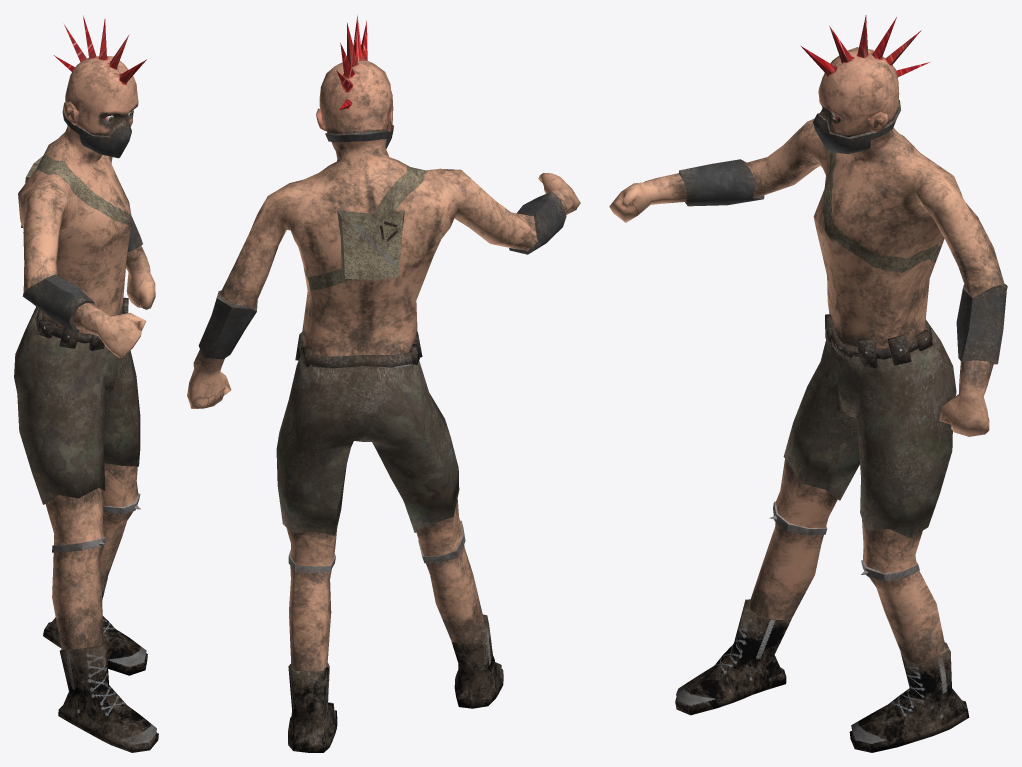
File: Anim_disparar_pistola_npc2.0026.obj
3 renders of one model, left to right at view 1: azimuth 30°, elevation 25°; view 2: azimuth 150°, elevation 25°; view 3: azimuth 270°, elevation 25°, orthographic. The views are drawn at different scales.
Visible parts, largest first — view 1: polySurface1; view 2: polySurface1; view 3: polySurface1.
Boxes of the visible parts, box(x1,y1,x2,y2) form: polySurface1: box(14, 15, 158, 752); polySurface1: box(187, 14, 580, 752); polySurface1: box(609, 15, 1007, 752).
Size of the model in its own units: 3.63 by 10.12 by 5.09.
